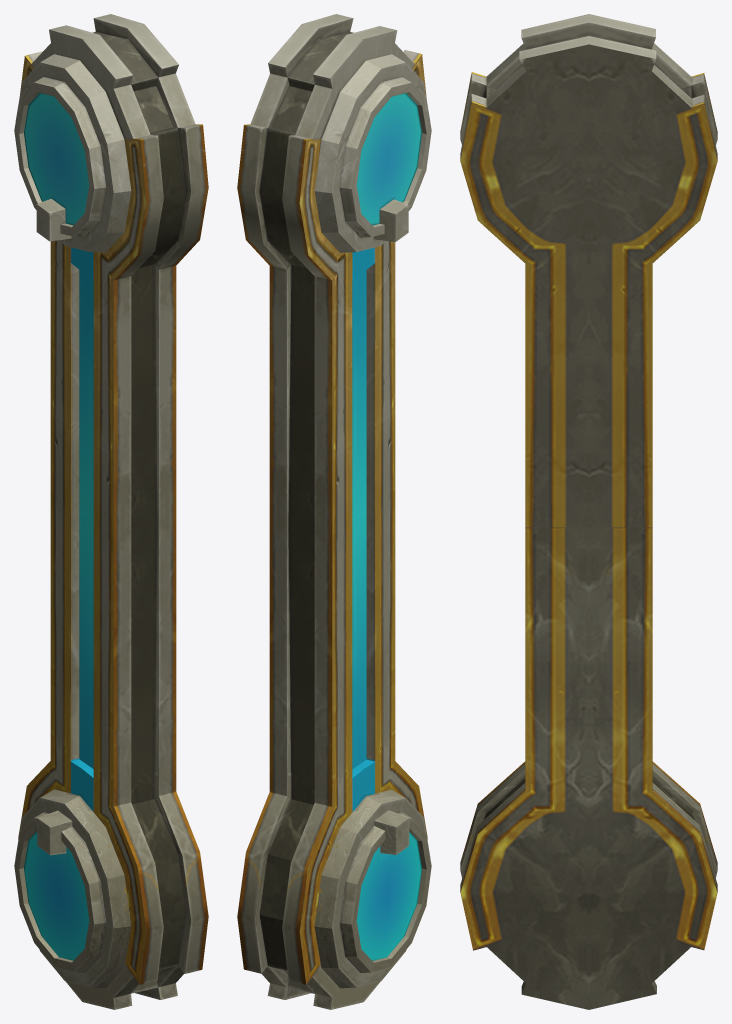
The model's file is t_xiaowujian05.FBX.
3 renders of one model, left to right at view 1: azimuth 30°, elevation 25°; view 2: azimuth 150°, elevation 25°; view 3: azimuth 270°, elevation 25°, orthographic.
Visible parts, largest first — view 1: t_xiaowujian05; view 2: t_xiaowujian05; view 3: t_xiaowujian05.
Part boxes in pixels (x1,y1,x2,y2): t_xiaowujian05: (14, 14, 208, 1009); t_xiaowujian05: (237, 14, 431, 1009); t_xiaowujian05: (460, 14, 717, 1009).
Bounding box in the file's own units: 213 × 1932 × 466.
